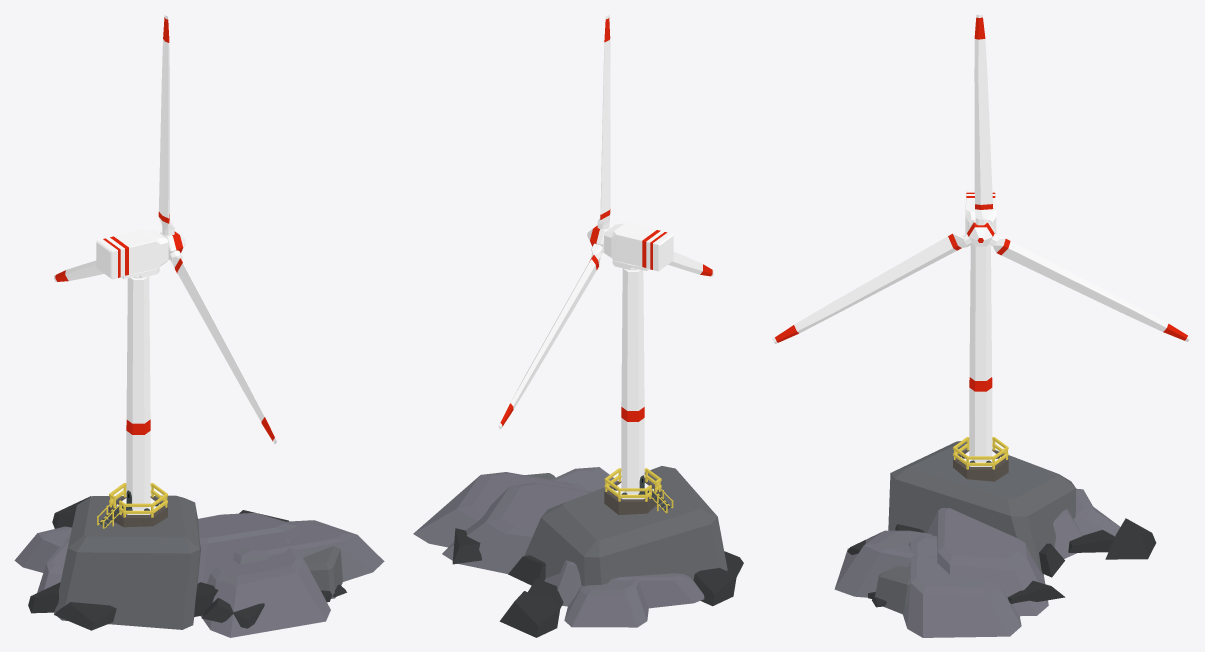
Rendered from jeju.glb.
3 renders of one model, left to right at view 1: azimuth 30°, elevation 25°; view 2: azimuth 150°, elevation 25°; view 3: azimuth 270°, elevation 25°, orthographic. The views are drawn at different scales.
Visible parts, largest first — view 1: Cube; view 2: Cube; view 3: Cube.
Boxes of the visible parts, box(x1,y1,x2,y2) form: Cube: box(14, 14, 384, 637); Cube: box(413, 14, 743, 637); Cube: box(772, 14, 1190, 637).
Size of the model in its own units: 2241 by 3812 by 2688.
